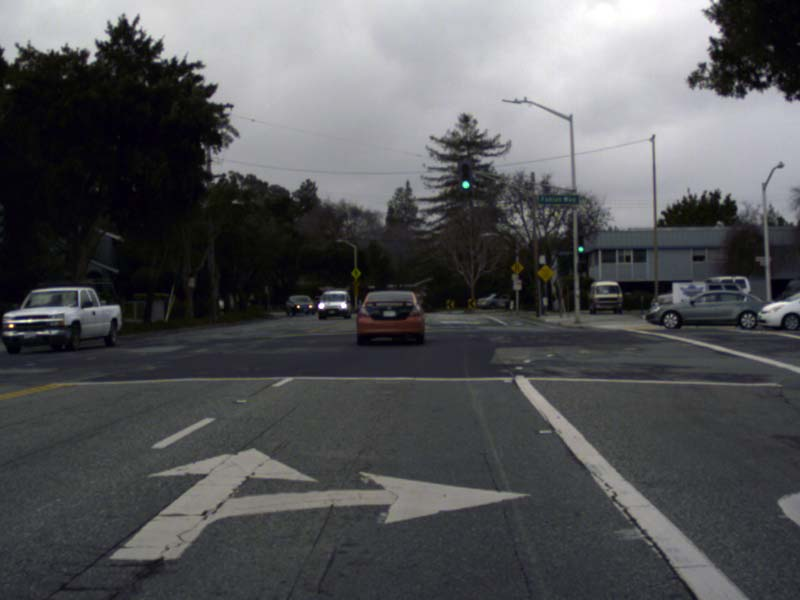Green: (458, 160, 472, 189), (575, 235, 585, 255)
